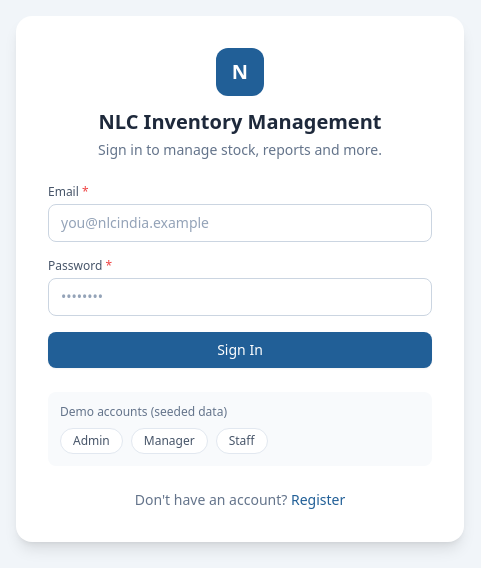
Test: LoginPage › fills the form when a demo account shortcut is clicked
Click the button "Manager" at (169, 441), box [131,428,208,454]
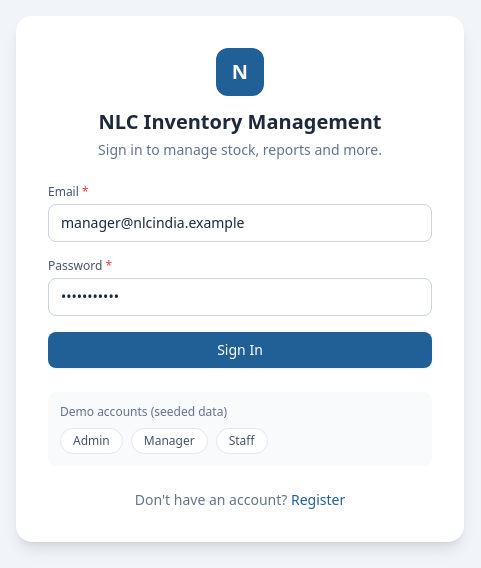
Now the field with placeholder "you@nlcindia.example" holds "manager@nlcindia.example", box [48,204,432,242]
